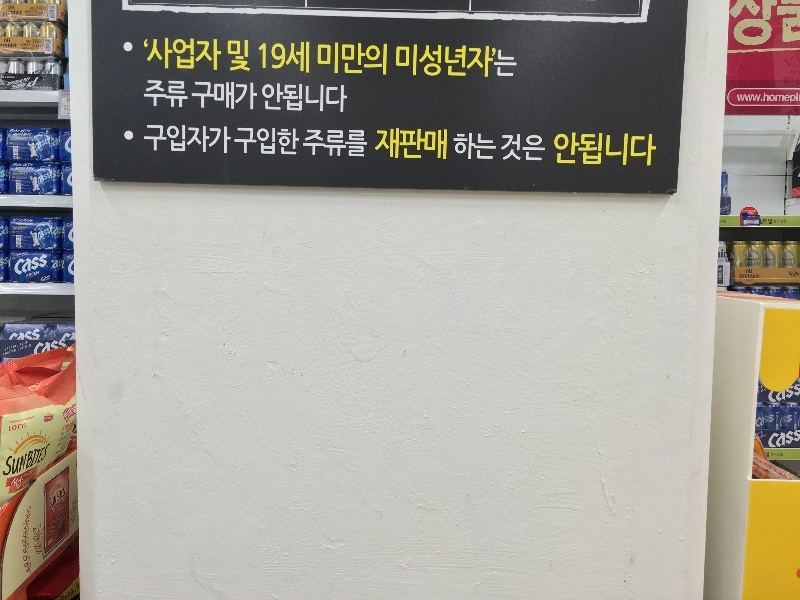text: (737, 1, 752, 48), (753, 1, 768, 48), (769, 1, 784, 48), (785, 1, 800, 48), (561, 132, 576, 169), (577, 132, 592, 169), (593, 132, 608, 169), (609, 132, 624, 169), (625, 132, 640, 169), (641, 132, 656, 169), (17, 443, 32, 480), (33, 443, 48, 480), (145, 124, 160, 160), (161, 124, 176, 160), (177, 124, 192, 160), (193, 124, 208, 160), (209, 124, 224, 160), (225, 124, 240, 160), (241, 124, 256, 160), (257, 124, 272, 160), (273, 124, 288, 160), (289, 124, 304, 160), (305, 124, 320, 160), (321, 124, 336, 160), (337, 124, 352, 160), (353, 124, 368, 160), (401, 44, 416, 80), (417, 44, 432, 80), (433, 44, 448, 80), (449, 44, 464, 80), (465, 44, 480, 80), (481, 44, 496, 80), (497, 44, 512, 80), (145, 80, 160, 115), (161, 80, 176, 115), (177, 80, 192, 115), (193, 80, 208, 115), (209, 80, 224, 115), (225, 80, 240, 115), (241, 80, 256, 115), (257, 80, 272, 115), (273, 80, 288, 115), (289, 80, 304, 115), (305, 80, 320, 115), (321, 80, 336, 115), (145, 37, 160, 72), (161, 37, 176, 72), (177, 37, 192, 72), (193, 37, 208, 72), (209, 37, 224, 72), (225, 37, 240, 72), (273, 40, 288, 75), (289, 40, 304, 75), (433, 129, 449, 161), (321, 43, 336, 77), (337, 43, 352, 77), (353, 43, 368, 77), (369, 43, 384, 77), (529, 134, 545, 165), (3, 443, 16, 480), (385, 129, 400, 161), (401, 129, 416, 161), (417, 129, 432, 161), (513, 134, 528, 165), (481, 133, 497, 161), (17, 167, 32, 196), (465, 133, 480, 161), (260, 40, 272, 75), (337, 80, 348, 115), (17, 469, 33, 493), (500, 134, 512, 165), (17, 226, 32, 250), (241, 37, 251, 72), (49, 486, 64, 509), (17, 256, 32, 278), (33, 256, 48, 278), (729, 1, 736, 48), (453, 133, 464, 161), (769, 430, 784, 450), (785, 430, 800, 450), (65, 422, 74, 455), (375, 129, 384, 161), (769, 384, 784, 403), (785, 384, 800, 403), (49, 167, 62, 186), (305, 40, 312, 75), (33, 340, 48, 356), (49, 340, 64, 356), (65, 403, 77, 423), (1, 178, 16, 194), (66, 583, 80, 600), (35, 136, 48, 154), (554, 132, 560, 169), (724, 266, 736, 284), (37, 167, 48, 186), (737, 93, 752, 106), (753, 93, 768, 106), (769, 93, 784, 106), (785, 93, 800, 106), (755, 414, 768, 429), (17, 329, 32, 342), (17, 77, 32, 90), (51, 501, 64, 515), (1, 225, 16, 237), (49, 136, 59, 154), (513, 44, 518, 80), (741, 252, 752, 268), (17, 344, 31, 356), (9, 469, 16, 493), (65, 253, 80, 264), (3, 344, 16, 356), (1, 257, 16, 267), (33, 7, 48, 17), (1, 169, 16, 179), (396, 44, 400, 80), (37, 227, 48, 240), (51, 259, 64, 270), (50, 226, 64, 236), (385, 43, 389, 77), (17, 416, 32, 425), (1, 39, 16, 48), (65, 221, 80, 230), (4, 341, 16, 352), (20, 40, 32, 51), (17, 77, 31, 86), (2, 9, 16, 18), (17, 341, 28, 352), (33, 40, 44, 51), (11, 226, 16, 250), (7, 329, 16, 342), (12, 167, 16, 196), (726, 266, 736, 277), (33, 86, 48, 93), (33, 329, 41, 342), (317, 43, 320, 77), (17, 423, 28, 432), (769, 219, 784, 225), (769, 414, 775, 429), (769, 452, 783, 458), (7, 77, 16, 86), (785, 415, 793, 425), (779, 252, 784, 268), (739, 274, 752, 280), (10, 77, 16, 90), (33, 77, 39, 90), (730, 271, 736, 284), (49, 443, 51, 480), (25, 7, 32, 17), (13, 256, 16, 278), (40, 275, 48, 283), (721, 205, 729, 213), (9, 416, 16, 425), (9, 423, 16, 432), (17, 219, 32, 223), (17, 164, 32, 168), (61, 403, 64, 423), (17, 129, 32, 133), (1, 75, 16, 79), (17, 222, 32, 226), (33, 167, 35, 196), (754, 431, 768, 435), (65, 166, 72, 174), (759, 219, 768, 225), (721, 250, 727, 259), (67, 99, 80, 103), (49, 217, 62, 221), (57, 46, 64, 53), (17, 133, 33, 136), (8, 5, 16, 11), (33, 226, 35, 250), (753, 260, 761, 266), (17, 9, 22, 18), (789, 272, 800, 276), (753, 274, 760, 280), (65, 131, 72, 137), (766, 430, 768, 450), (785, 261, 795, 265), (760, 434, 768, 439), (766, 384, 768, 403), (657, 132, 658, 169), (143, 124, 144, 160), (746, 260, 752, 266), (733, 271, 736, 283), (143, 80, 144, 115), (63, 422, 64, 455), (65, 340, 67, 356), (781, 415, 784, 425), (718, 267, 720, 282), (721, 267, 723, 282), (746, 221, 752, 226), (746, 269, 752, 274), (9, 129, 16, 133), (49, 86, 53, 93), (729, 261, 736, 265), (769, 261, 776, 265), (49, 227, 51, 240), (753, 221, 758, 226), (60, 12, 64, 18), (60, 131, 64, 137), (721, 220, 727, 224), (65, 486, 66, 509), (65, 93, 70, 97), (43, 217, 48, 221), (765, 452, 768, 458), (33, 416, 35, 425), (65, 108, 71, 111), (17, 39, 19, 48), (65, 12, 68, 18), (743, 211, 752, 213), (49, 275, 51, 283), (721, 259, 726, 262), (785, 219, 787, 225), (13, 219, 16, 223), (13, 164, 16, 168), (44, 417, 48, 420), (49, 417, 53, 420), (746, 218, 752, 220), (748, 255, 752, 258), (13, 133, 16, 136), (719, 250, 720, 259), (62, 93, 64, 97), (63, 166, 64, 174), (753, 211, 757, 213), (748, 216, 752, 218), (753, 218, 757, 220), (748, 213, 752, 215), (766, 261, 768, 265), (33, 222, 35, 226), (31, 86, 32, 93), (766, 255, 768, 258), (718, 259, 720, 262), (33, 219, 34, 223), (33, 164, 34, 168), (753, 216, 755, 218), (753, 213, 755, 215), (783, 261, 784, 265), (785, 256, 787, 258), (783, 256, 784, 258)
